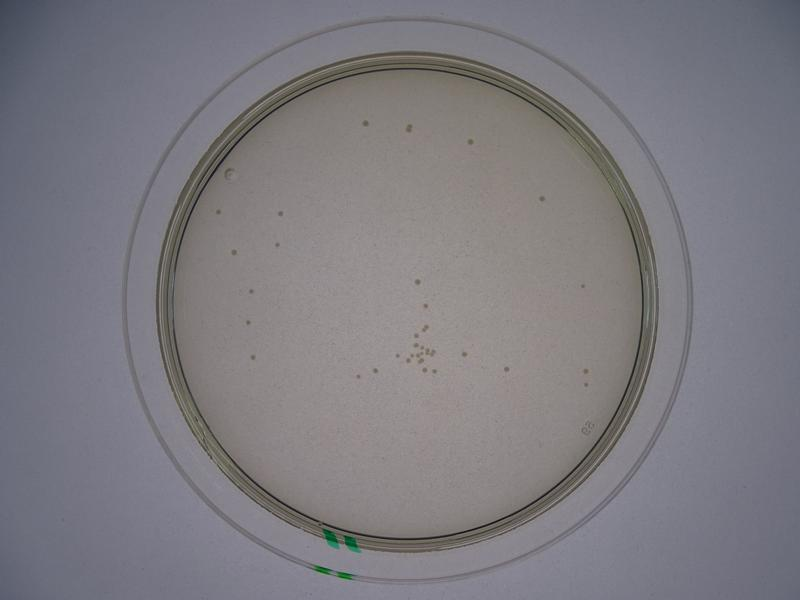colony: (359, 118, 373, 132), (535, 192, 549, 205), (578, 361, 591, 374), (411, 276, 423, 289), (245, 286, 259, 297), (575, 282, 590, 292), (229, 246, 240, 258), (275, 209, 287, 219), (500, 364, 511, 374), (465, 137, 476, 146), (248, 352, 259, 361), (423, 301, 434, 310), (458, 349, 467, 360), (273, 240, 281, 249), (245, 318, 253, 327)
